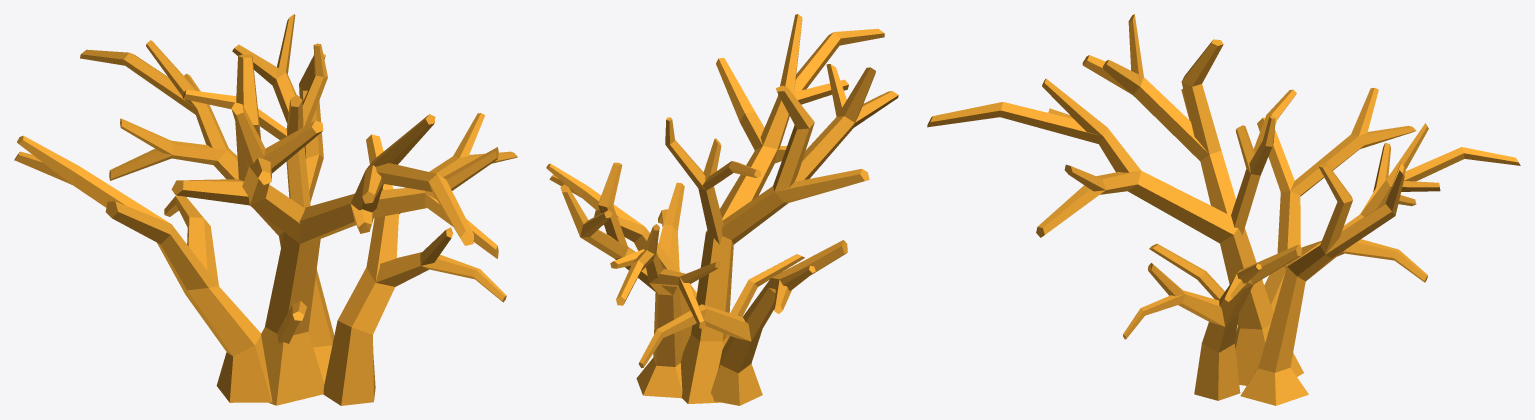
File: SM_Bush_Dead_A.fbx
3 views of the same model, side by side, from view 1: azimuth 30°, elevation 25°; view 2: azimuth 150°, elevation 25°; view 3: azimuth 270°, elevation 25° (orthographic). The views are drawn at different scales.
Parts seen in each view (by area): view 1: bush-dead-a; view 2: bush-dead-a; view 3: bush-dead-a.
Boxes of the visible parts, x1,y1,x2,y2 form: bush-dead-a: [14, 14, 517, 405]; bush-dead-a: [546, 14, 898, 405]; bush-dead-a: [927, 14, 1520, 405].
Size of the model in its own units: 1.55 by 1.33 by 2.31.
